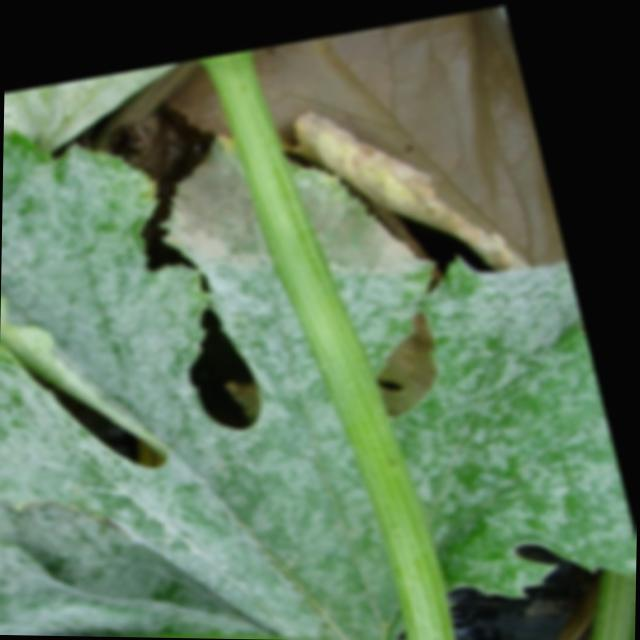Powdery_mildew_on_lettuce: (0, 123, 362, 640), (194, 236, 640, 640)
